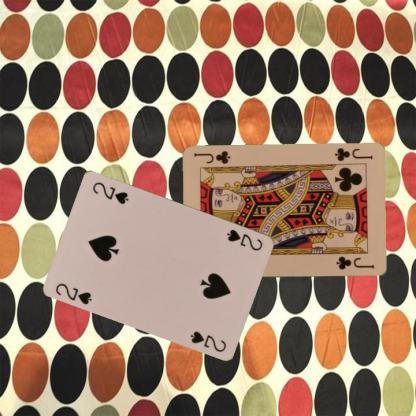2s: (224, 226, 265, 252), (53, 280, 94, 306)
Jc: (332, 146, 374, 162)
